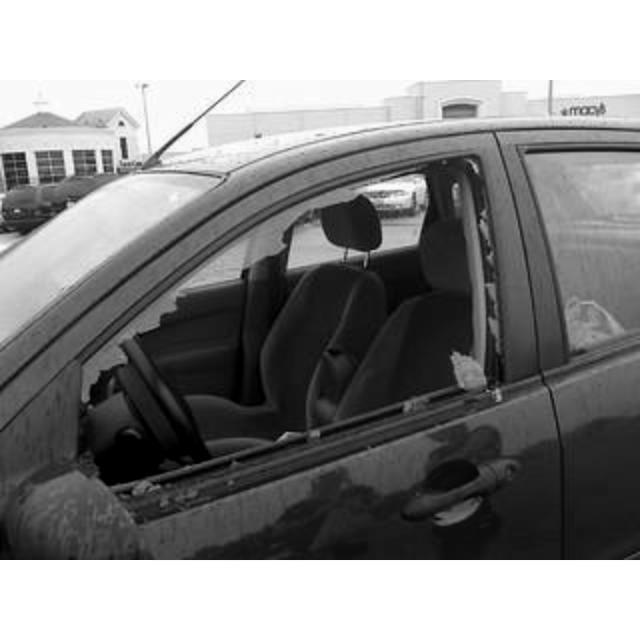doorouter-dent: (82, 154, 498, 558)
